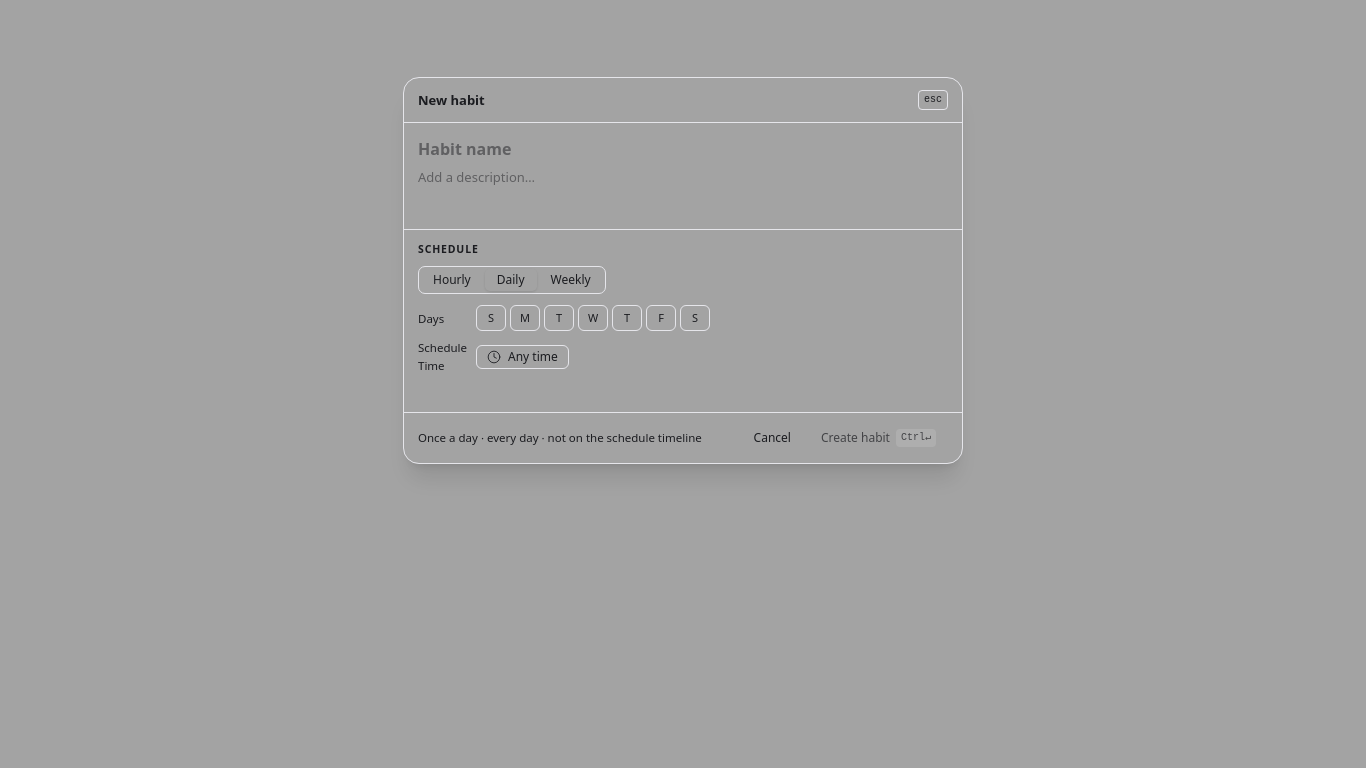
Test: HabitModal — create › summarises the schedule live in the footer
Expected: the text "Once a day · every day · not on the schedule timeline" is shown, [418, 429, 736, 446]
Step 1. Click the button "Weekly" → (571, 280), box [539, 269, 603, 291]
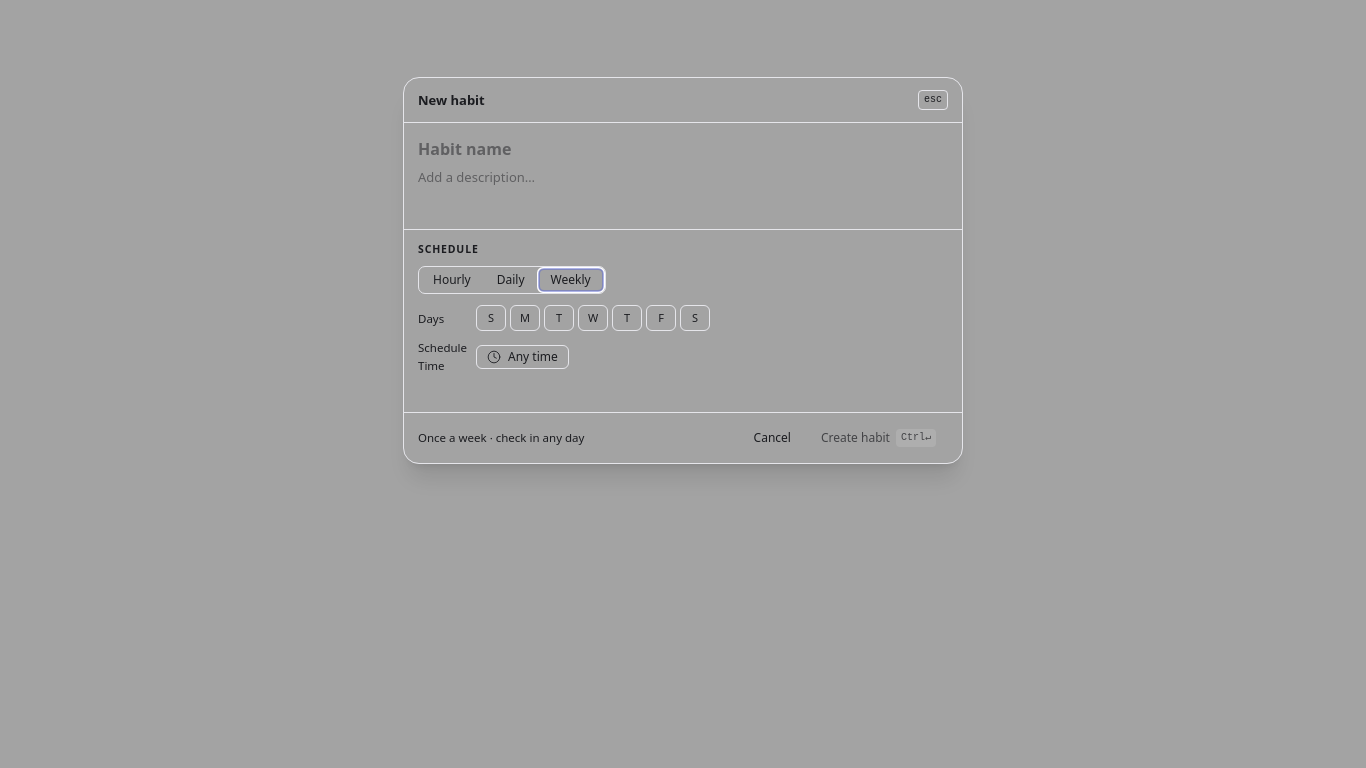
Expected: the text "Once a week · check in any day" is shown, [418, 430, 584, 445]
